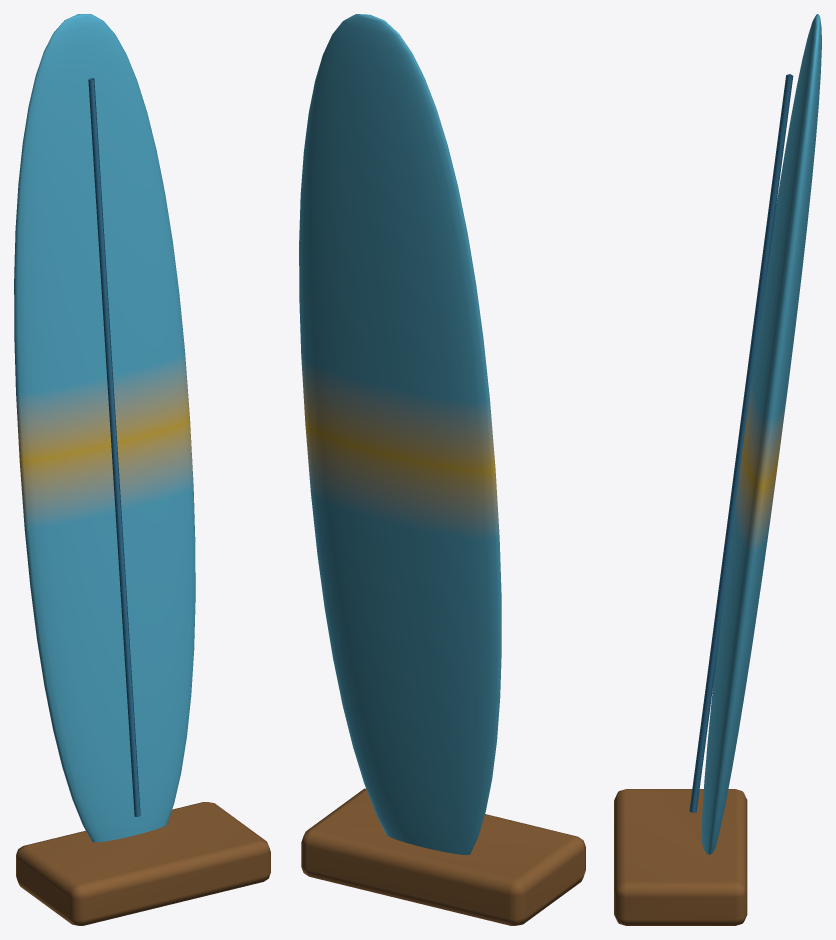
File: furn_surfboard.glb
3 views of the same model, side by side, from view 1: azimuth 30°, elevation 25°; view 2: azimuth 150°, elevation 25°; view 3: azimuth 270°, elevation 25° (orthographic). The views are drawn at different scales.
Visible parts, largest first — view 1: furn_surfboard_main; view 2: furn_surfboard_main; view 3: furn_surfboard_main.
Boxes of the visible parts, bbox=[...] form: furn_surfboard_main: bbox=[14, 14, 270, 925]; furn_surfboard_main: bbox=[299, 14, 585, 925]; furn_surfboard_main: bbox=[614, 14, 821, 925].
Size of the model in its own units: 0.4 by 1.57 by 0.3429.
